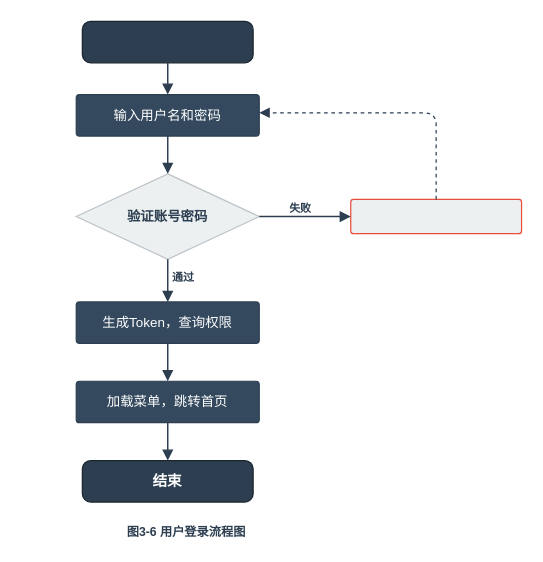
This 543x562 diagram has some shape labels left out. Each missing label, with the centre of its shape:
"开始" belongs at (x=167, y=41).
"提示错误，返回重输" belongs at (x=436, y=216).
